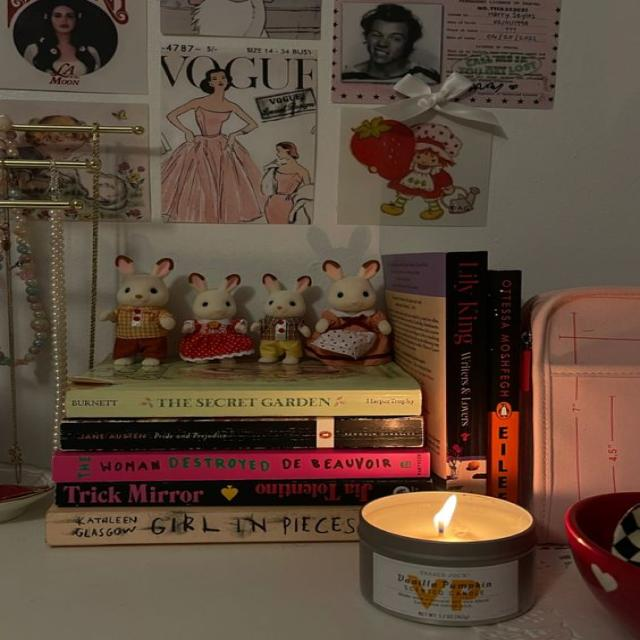book: (60, 420, 425, 448), (446, 252, 488, 490), (52, 454, 429, 479), (67, 389, 422, 415), (47, 514, 360, 542), (56, 483, 374, 508), (490, 270, 516, 498)
candle: (360, 492, 534, 626)
